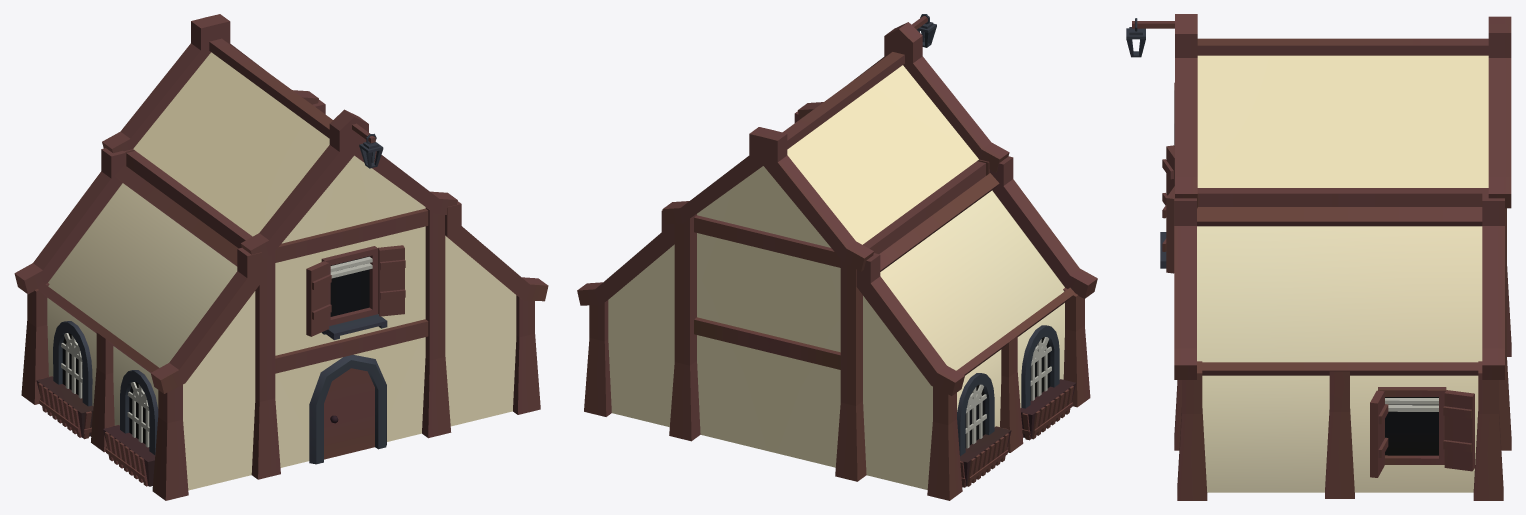
Rendered from dom4.fbx.
3 renders of one model, left to right at view 1: azimuth 30°, elevation 25°; view 2: azimuth 150°, elevation 25°; view 3: azimuth 270°, elevation 25°, orthographic. The views are drawn at different scales.
Visible parts, largest first — view 1: Cube.079, Torus.010, Torus.011, Cube.083, Cube.086; view 2: Cube.079, Torus.010, Cube.083, Cube.086; view 3: Cube.079, Cube.080, Cube.086, Cube.083, Torus.009.
Boxes of the visible parts, bbox=[...] form: Cube.079: bbox=[14, 14, 548, 500]; Torus.010: bbox=[36, 321, 158, 486]; Torus.011: bbox=[309, 354, 386, 464]; Cube.083: bbox=[209, 38, 332, 138]; Cube.086: bbox=[115, 165, 238, 266]; Cube.079: bbox=[577, 16, 1097, 500]; Torus.010: bbox=[957, 325, 1076, 487]; Cube.083: bbox=[782, 52, 904, 149]; Cube.086: bbox=[879, 173, 999, 271]; Cube.079: bbox=[1132, 14, 1511, 500]; Cube.080: bbox=[1370, 387, 1474, 477]; Cube.086: bbox=[1197, 207, 1482, 226]; Cube.083: bbox=[1197, 38, 1488, 55]; Torus.009: bbox=[1126, 18, 1145, 57].
Bounding box in the file's own units: 1019 × 833 × 754.
